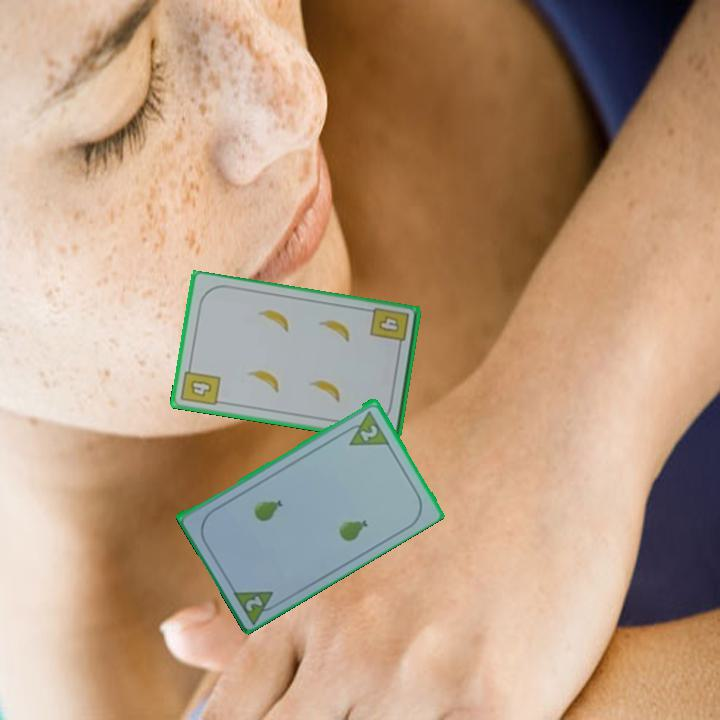2p: (356, 421, 381, 444), (242, 591, 266, 614)
4b: (177, 361, 223, 409), (367, 304, 412, 353)
